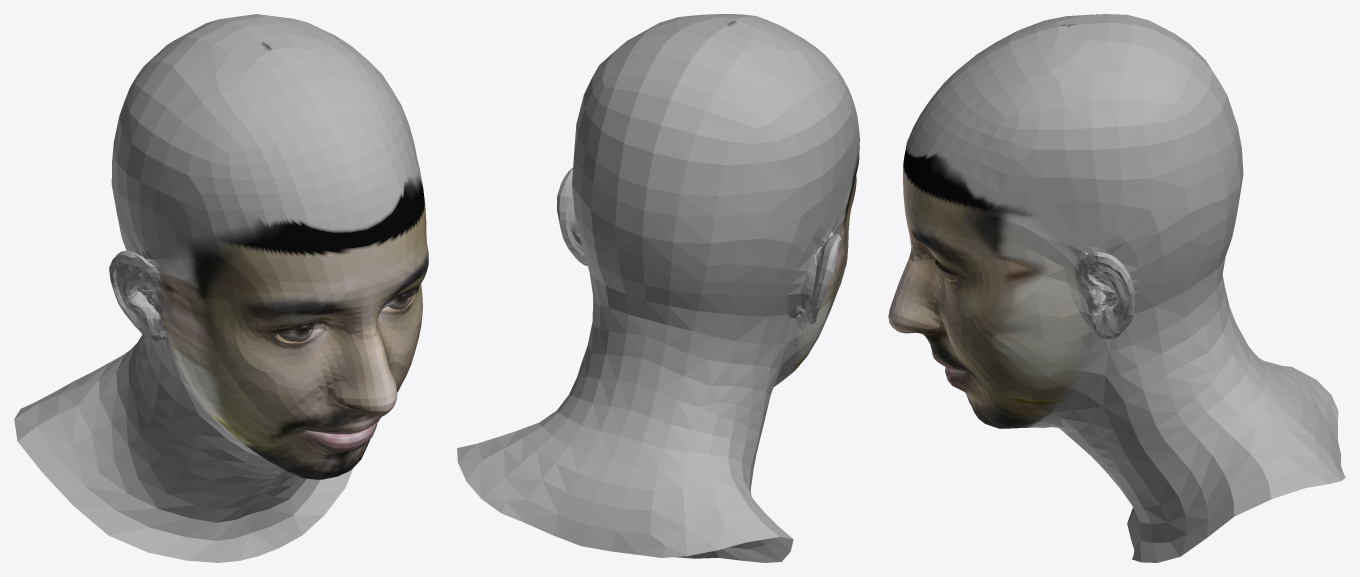
File: ezgif-frame-025.obj
3 renders of one model, left to right at view 1: azimuth 30°, elevation 25°; view 2: azimuth 150°, elevation 25°; view 3: azimuth 270°, elevation 25°, orthographic. The views are drawn at different scales.
Size of the model in its own units: 0.2095 by 0.3289 by 0.2644.
Materials: 1 (1 with a texture image).
